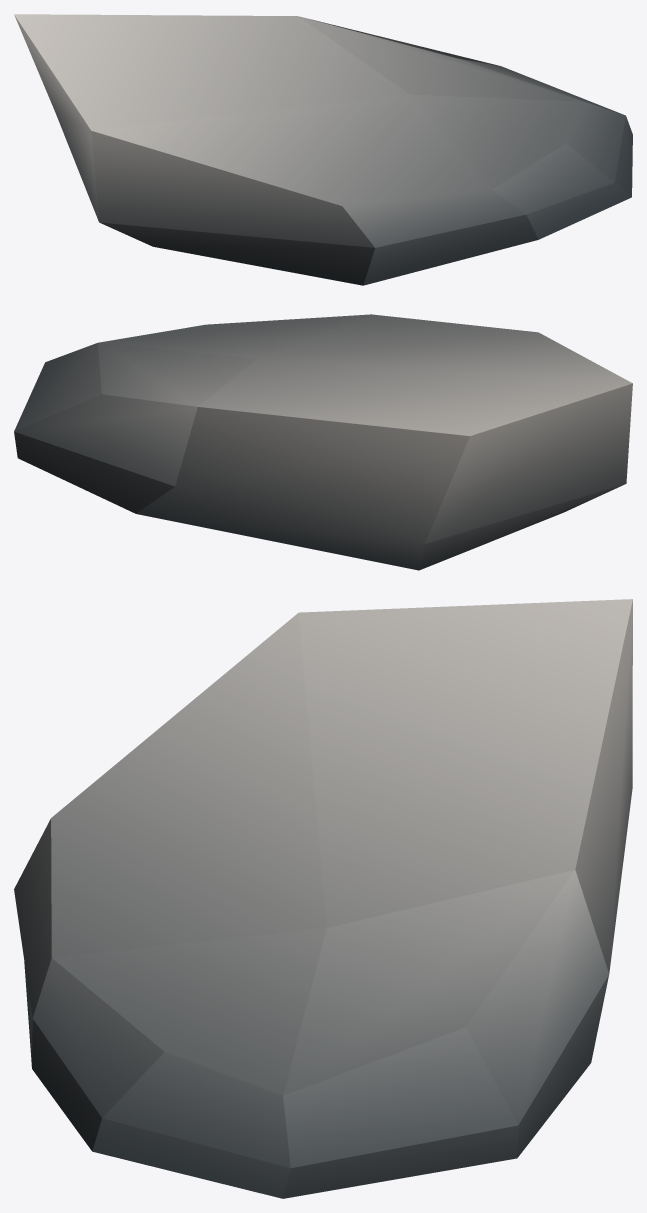
Rendered from m_Rock04.fbx.
3 views of the same model, one above another, from view 1: azimuth 30°, elevation 25°; view 2: azimuth 150°, elevation 25°; view 3: azimuth 270°, elevation 25° (orthographic). The views are drawn at different scales.
Parts seen in each view (by area): view 1: m_Rock04; view 2: m_Rock04; view 3: m_Rock04.
Boxes of the visible parts, box(x1,y1,x2,y2) form: m_Rock04: box(14, 14, 632, 285); m_Rock04: box(14, 314, 632, 570); m_Rock04: box(14, 599, 632, 1198).
Bounding box in the file's own units: 51.52 × 14.42 × 34.5.
